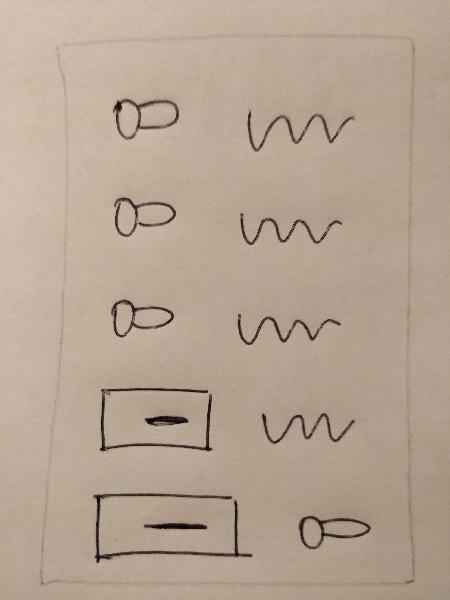button: (88, 486, 257, 568), (89, 383, 225, 463)
switch: (290, 499, 376, 561), (107, 91, 189, 150), (105, 190, 182, 250), (104, 291, 181, 345)
text: (248, 396, 364, 460), (230, 202, 349, 255), (227, 305, 350, 355), (238, 103, 358, 153)
